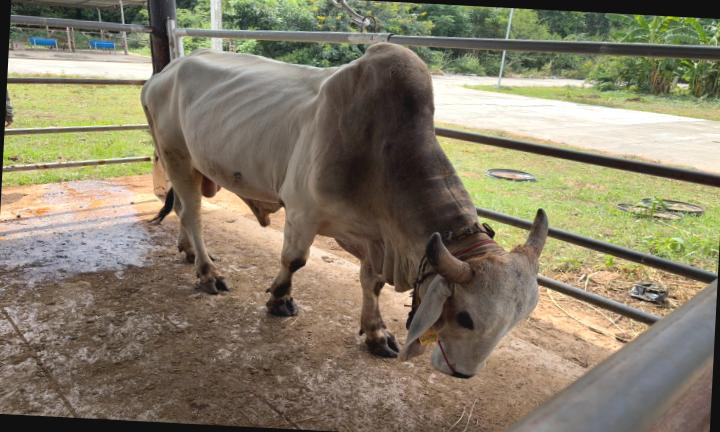Brahman: (140, 42, 547, 377)
